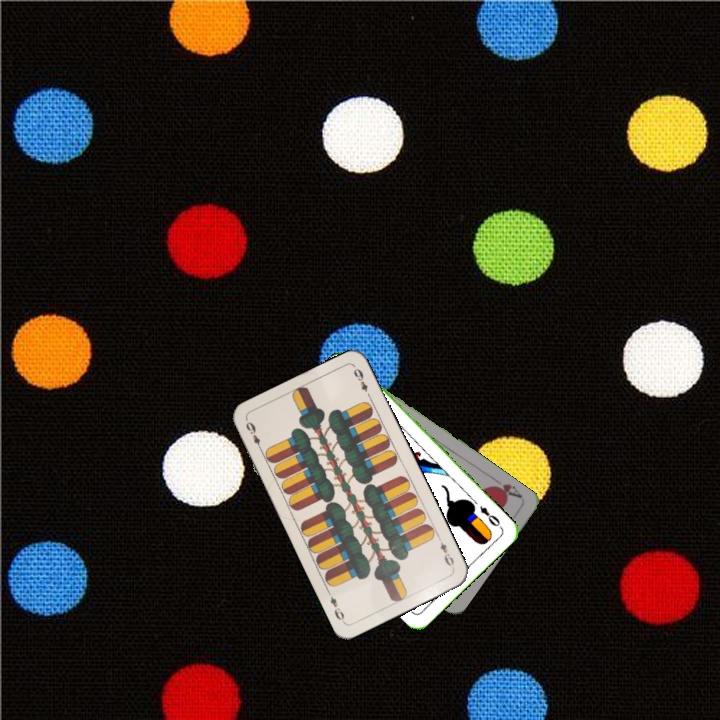E9: (242, 417, 265, 455), (436, 538, 457, 571)
EO: (476, 502, 504, 531)
HA: (487, 474, 525, 501)
